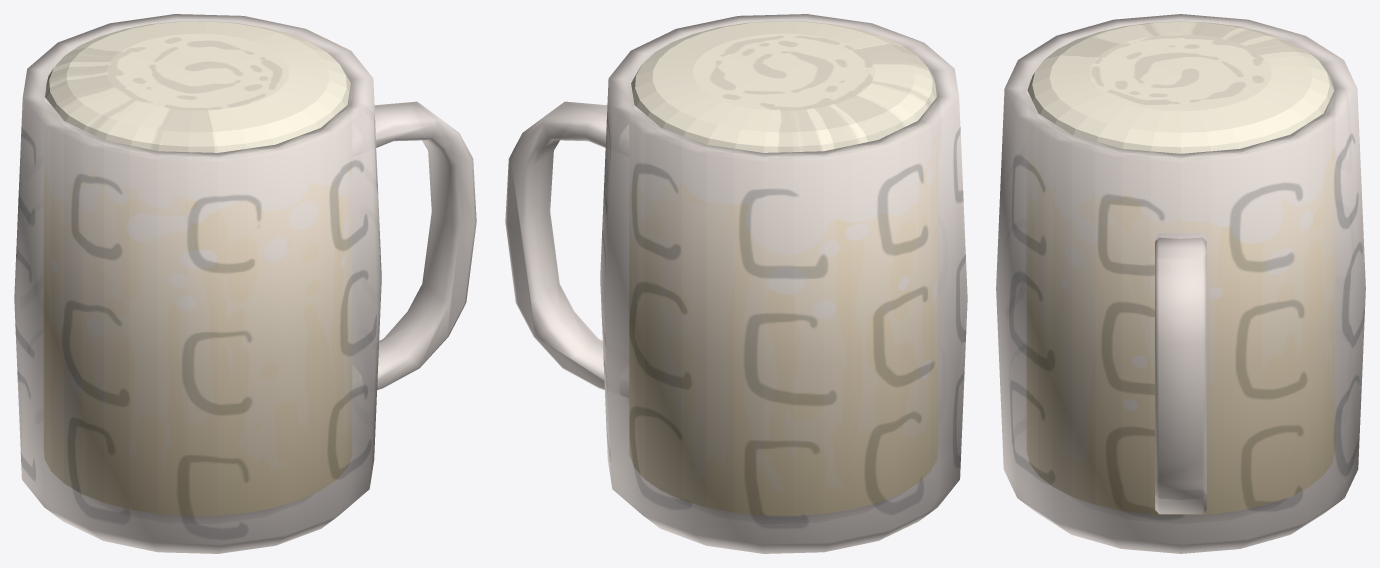
File: Pint.fbx
3 renders of one model, left to right at view 1: azimuth 30°, elevation 25°; view 2: azimuth 150°, elevation 25°; view 3: azimuth 270°, elevation 25°, orthographic.
Visible parts, largest first — view 1: Pint, Beer; view 2: Pint, Beer; view 3: Pint, Beer.
Part boxes in pixels (bbox=[...]): Pint: bbox=[14, 14, 476, 553]; Beer: bbox=[44, 21, 351, 515]; Pint: bbox=[505, 14, 967, 553]; Beer: bbox=[630, 21, 937, 515]; Pint: bbox=[996, 14, 1365, 553]; Beer: bbox=[1027, 21, 1334, 514].
Size of the model in its own units: 224 by 168 by 208.
2 materials, 2 textured.
